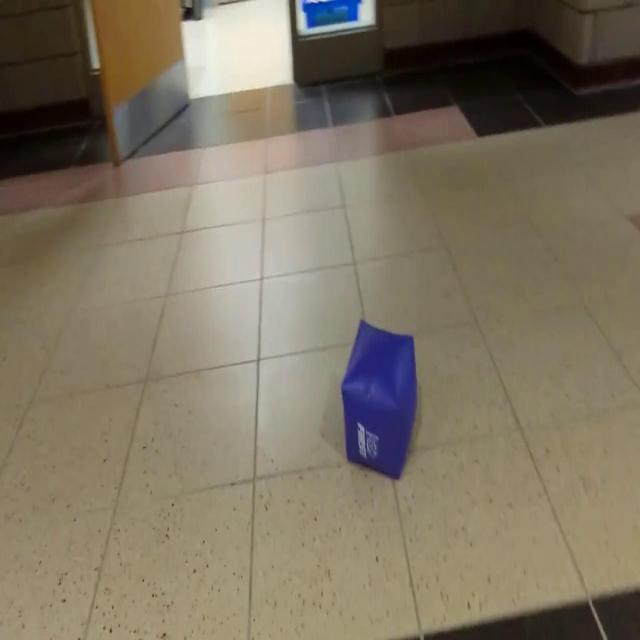frc_cube: (340, 319, 416, 480)
